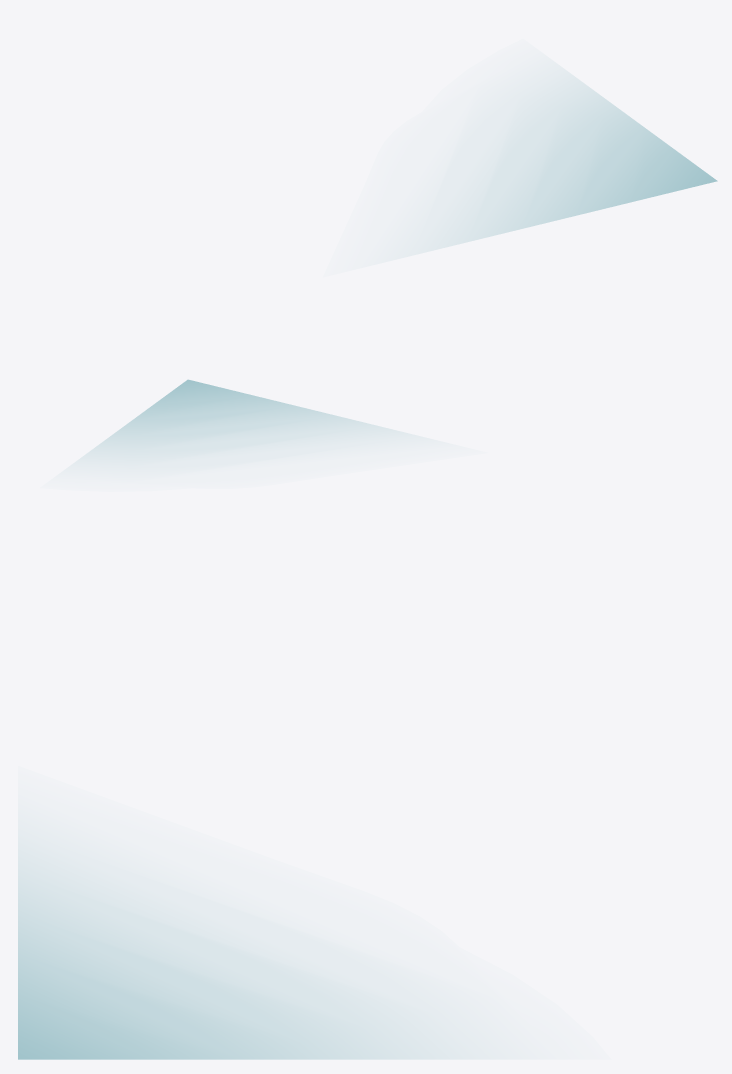
3 renders of one model, top to bottom at view 1: azimuth 30°, elevation 25°; view 2: azimuth 150°, elevation 25°; view 3: azimuth 270°, elevation 25°, orthographic. The views are drawn at different scales.
Visible parts, largest first — view 1: city; view 2: city; view 3: city.
Boxes of the visible parts, box(x1,y1,x2,y2) form: city: box(431, 76, 717, 250); city: box(79, 379, 403, 461); city: box(18, 846, 456, 1059).
Size of the model in its own units: 500 by 0 by 284.
